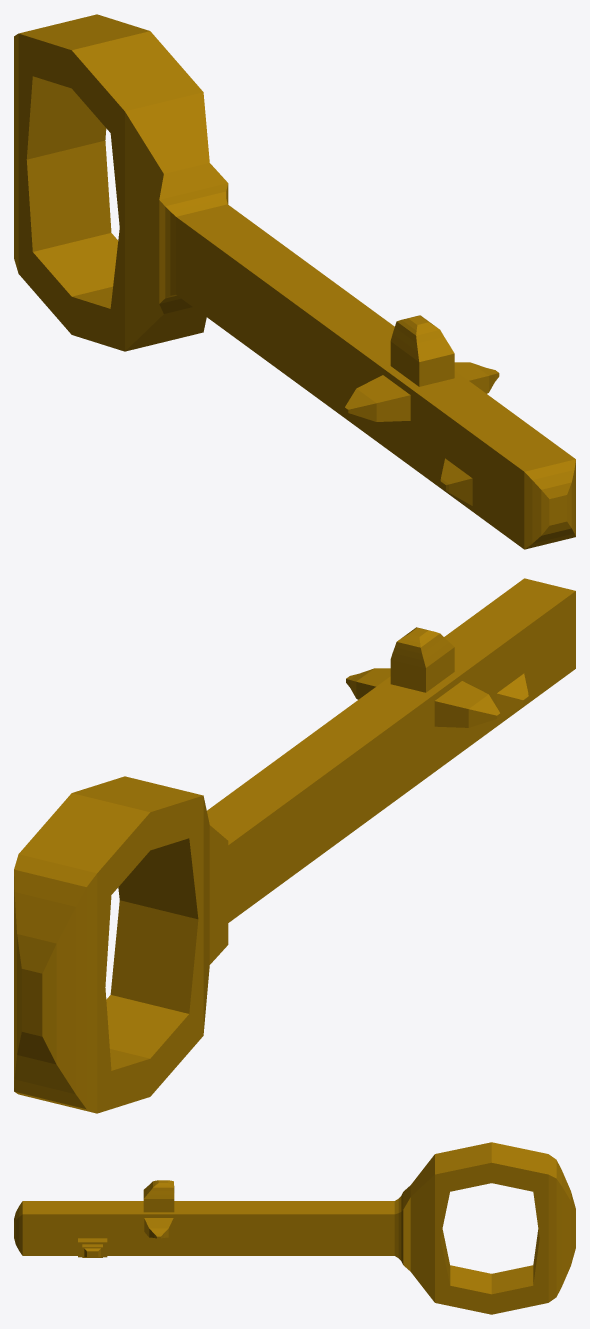
File: llave2.fbx
3 views of the same model, one above another, from view 1: azimuth 30°, elevation 25°; view 2: azimuth 150°, elevation 25°; view 3: azimuth 270°, elevation 25° (orthographic). The views are drawn at different scales.
Parts seen in each view (by area): view 1: key2:Mesh; view 2: key2:Mesh; view 3: key2:Mesh.
Part boxes in pixels (<box>): key2:Mesh: <box>14,14,575,549</box>; key2:Mesh: <box>14,578,575,1113</box>; key2:Mesh: <box>14,1142,575,1314</box>.
Bounding box in the file's own units: 0.3316 × 0.5976 × 2.
